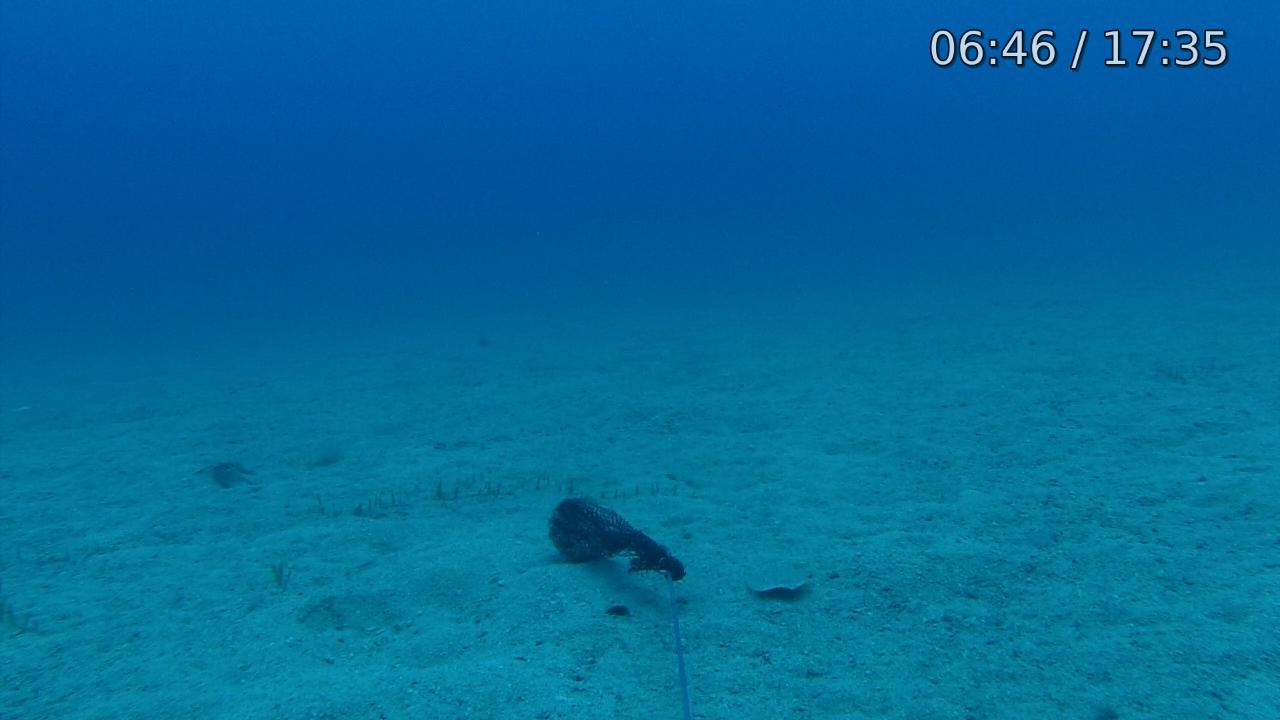bothus: (732, 552, 819, 604)
